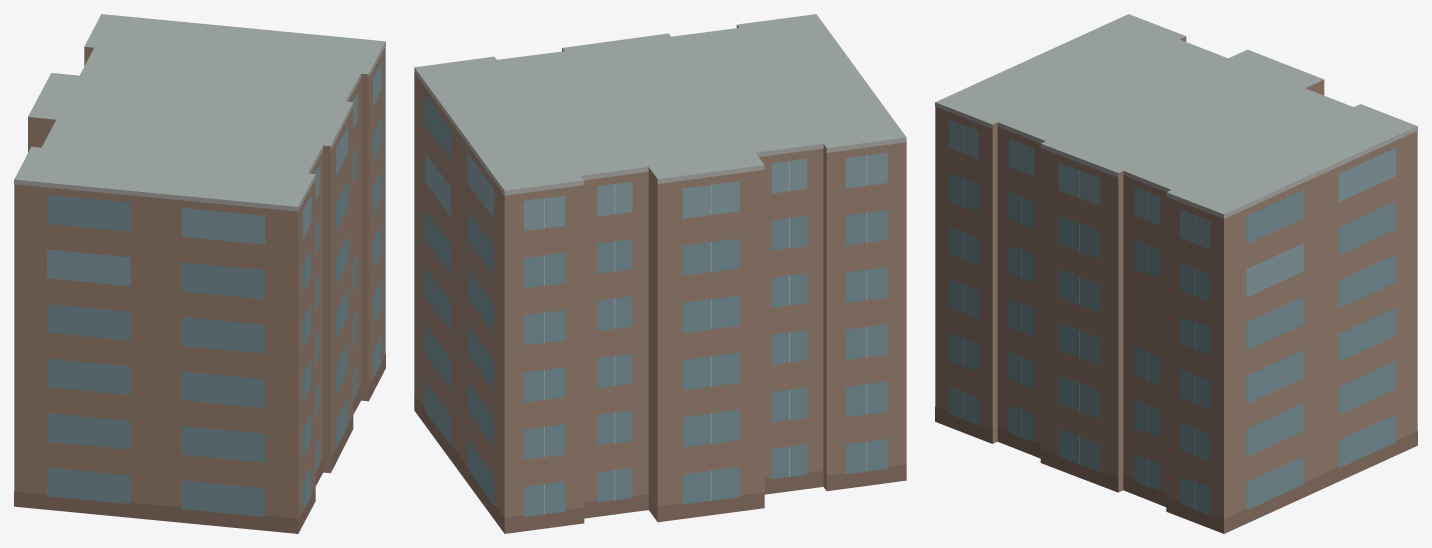
Rendered from survey-upis-32892481.glb.
The picture shows the model from 3 angles, left to right: view 1: azimuth 30°, elevation 25°; view 2: azimuth 150°, elevation 25°; view 3: azimuth 270°, elevation 25°; orthographic projection. The views are drawn at different scales.
Visible parts, largest first — view 1: survey-upis-32892481.tmp; view 2: survey-upis-32892481.tmp; view 3: survey-upis-32892481.tmp.
Boxes of the visible parts, left/top/right/bottom form: survey-upis-32892481.tmp: left=14, top=14, right=385, bottom=533; survey-upis-32892481.tmp: left=414, top=14, right=906, bottom=533; survey-upis-32892481.tmp: left=935, top=14, right=1417, bottom=533.
Bounding box in the file's own units: 23.42 × 17.4 × 23.83.
